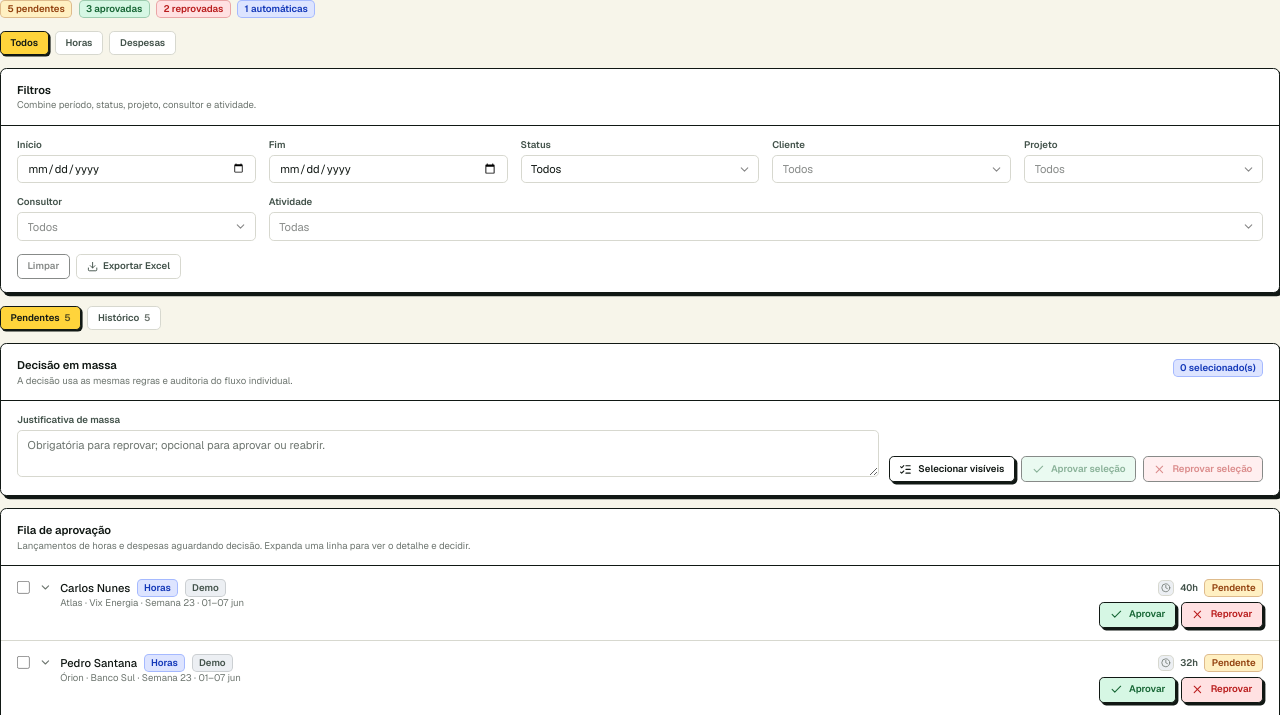
Test: ApprovalQueue › keeps the inline rejection field local to the row it was opened on
Click the button "Reprovar" below "40h": (1222, 615) left=1181, top=602, right=1263, bottom=628
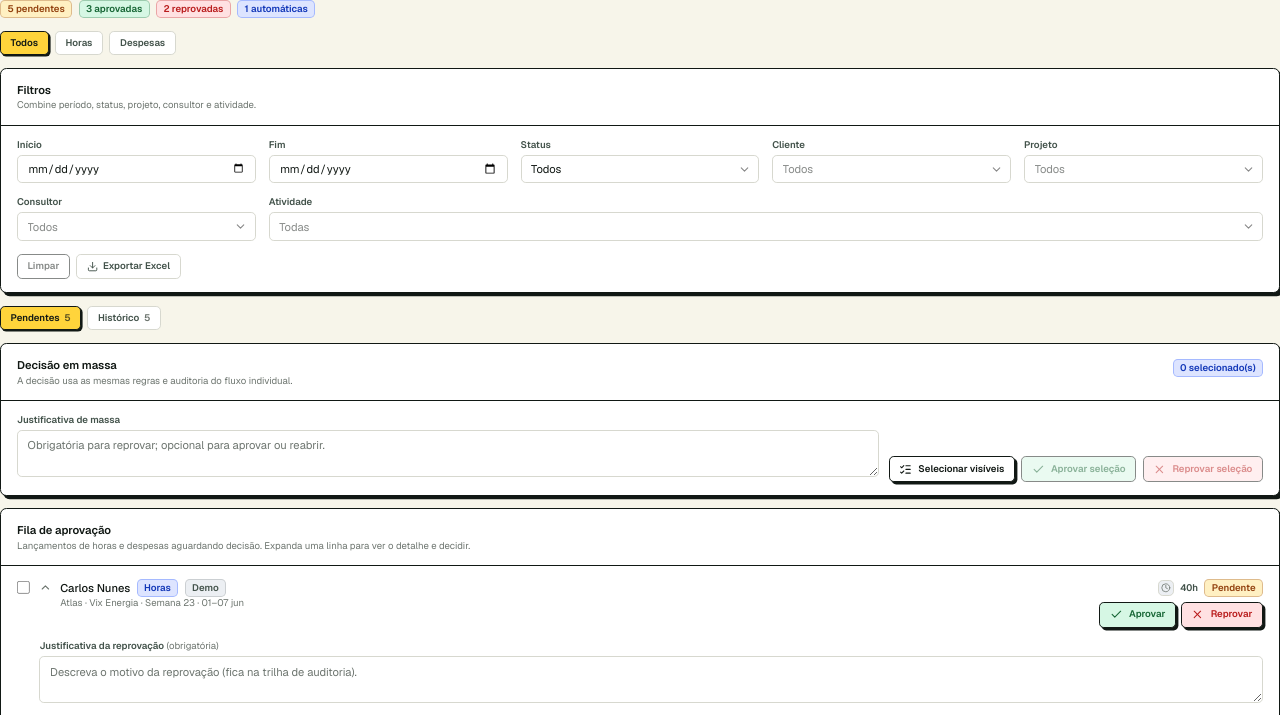
Now the number of text boxes labelled "Justificativa da reprovação (obrigatória)" is 1, box left=39, top=656, right=1263, bottom=703
